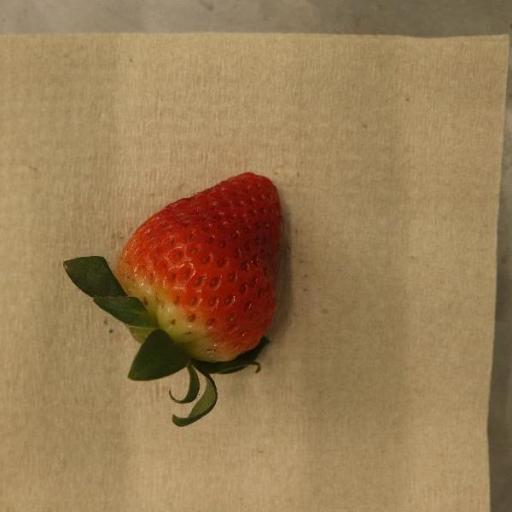Strawberry: (62, 173, 284, 428)
